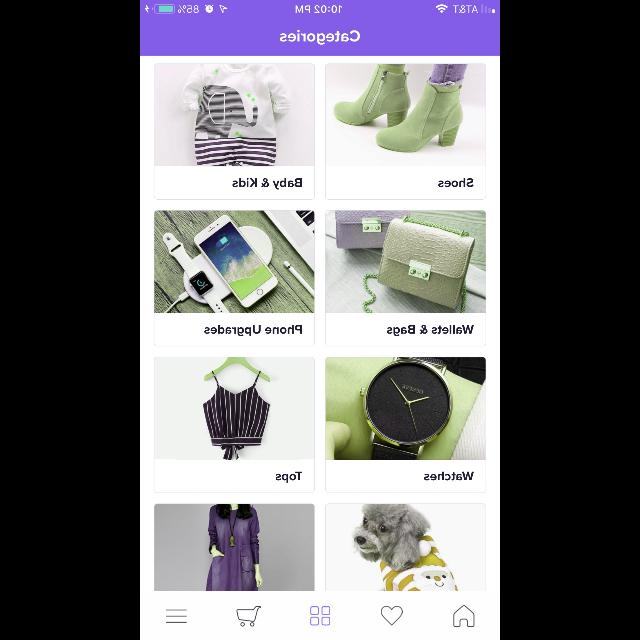icon: (237, 606, 261, 626), (381, 606, 403, 626), (454, 605, 474, 627), (310, 606, 330, 626), (166, 610, 187, 622)
image: (154, 358, 314, 460), (326, 357, 486, 459), (326, 211, 486, 313), (154, 211, 314, 313), (154, 64, 314, 166), (325, 64, 485, 166), (325, 504, 485, 590), (154, 505, 314, 591)
text: (280, 30, 360, 46), (205, 326, 302, 336), (386, 326, 474, 336), (232, 178, 302, 190), (424, 472, 474, 481), (438, 178, 474, 188), (276, 472, 302, 482)
uppertaskbar: (140, 0, 500, 14)
